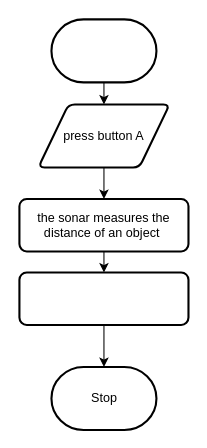
The diagram is 207 pixels wide and 448 high, and some of its shapes have lost their labels. Here are the shapes that lost their labels. From the top down, the centre of each, then its label:
the point at 103,50: Start
the point at 103,298: shows the distance in cm
